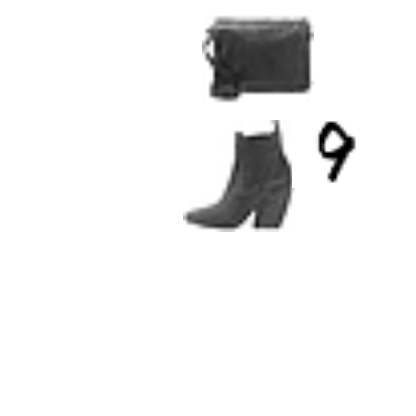9: (292, 104, 376, 188)
Ankle_boot: (183, 120, 295, 232)
Bag: (202, 1, 314, 113)
